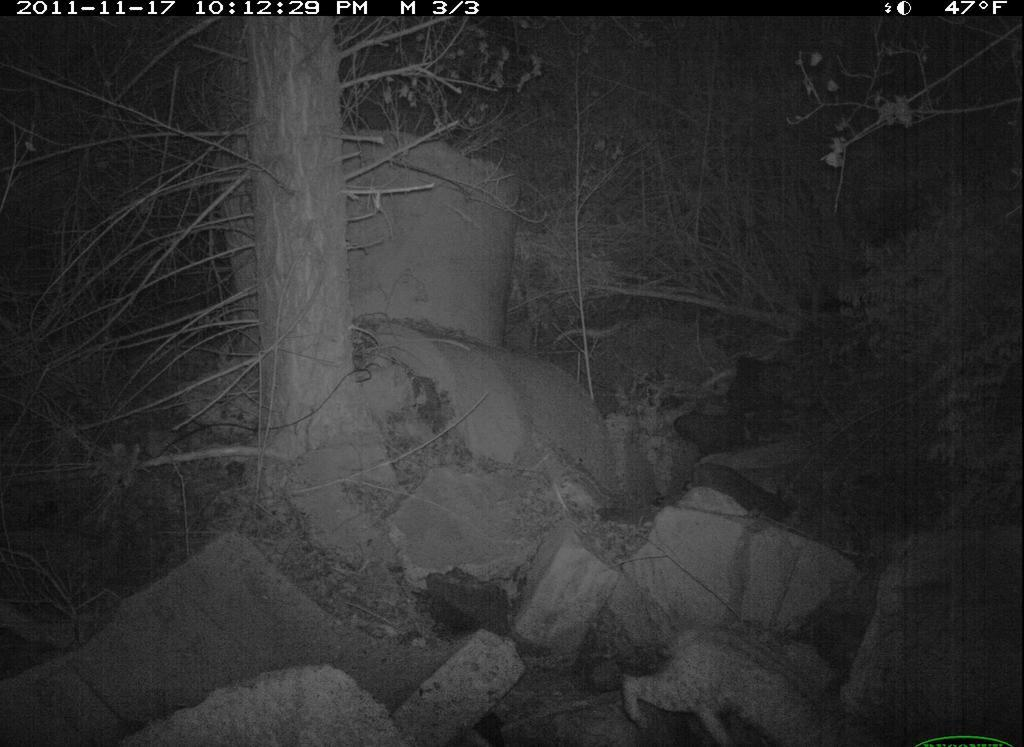bobcat: (614, 612, 873, 747)
